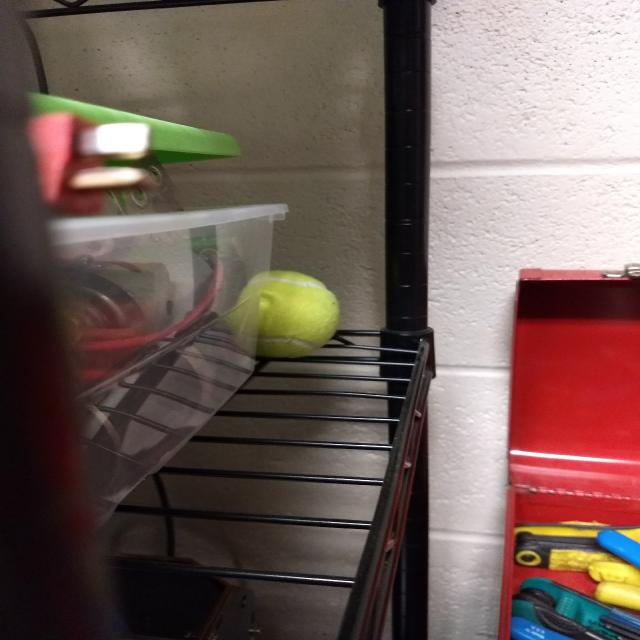Tennis-Ball: (252, 268, 342, 356)
